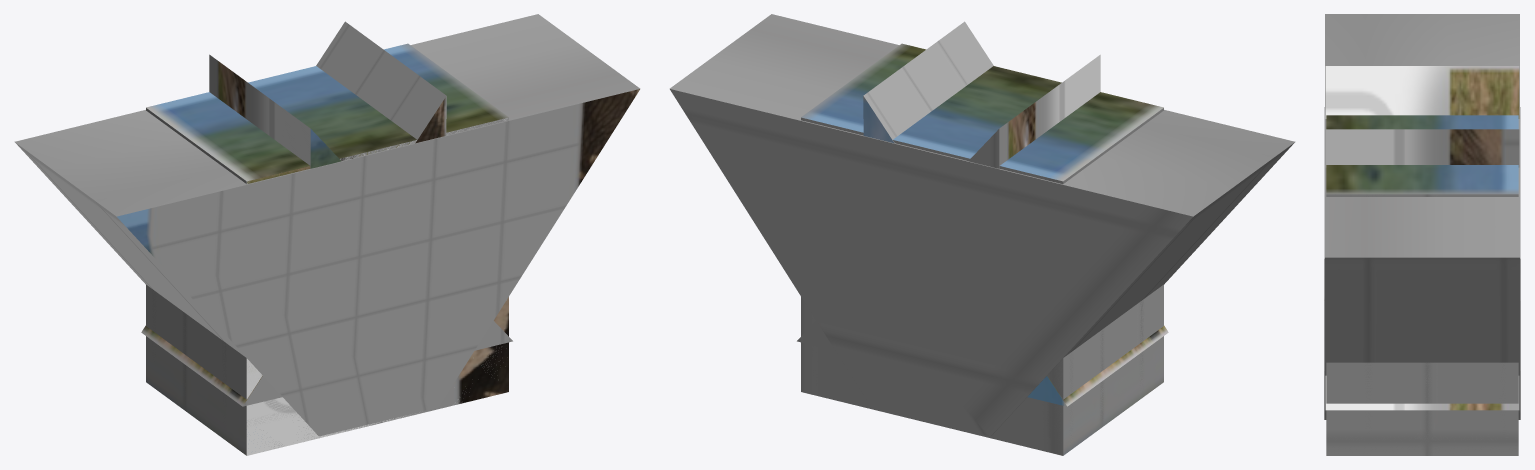
The model's file is puzzle9.fbx.
The picture shows the model from 3 angles, left to right: view 1: azimuth 30°, elevation 25°; view 2: azimuth 150°, elevation 25°; view 3: azimuth 270°, elevation 25°; orthographic projection. The views are drawn at different scales.
Visible parts, largest first — view 1: Cube.004, Cube.006, Cube, Cube.003, Cube.002, Cube.005, Cube.001; view 2: Cube.004, Cube.006, Cube, Cube.003, Cube.001, Cube.002, Cube.005; view 3: Cube.004, Cube, Cube.002, Cube.006, Cube.003, Cube.001.
Part boxes in pixels (x1,y1,x2,y2): Cube.004: (14, 14, 640, 436); Cube.006: (146, 43, 508, 443); Cube: (146, 108, 508, 455); Cube.003: (141, 21, 446, 406); Cube.002: (209, 54, 512, 350); Cube.005: (149, 111, 508, 448); Cube.001: (146, 124, 411, 449); Cube.004: (669, 14, 1295, 436); Cube.006: (801, 43, 1163, 453); Cube: (845, 108, 1163, 455); Cube.003: (863, 21, 1168, 406); Cube.001: (846, 109, 1163, 450); Cube.002: (797, 54, 1100, 350); Cube.005: (801, 110, 1162, 444); Cube.004: (1324, 14, 1520, 419); Cube: (1326, 194, 1518, 455); Cube.002: (1325, 66, 1519, 410); Cube.006: (1326, 115, 1518, 194); Cube.003: (1325, 129, 1519, 167); Cube.001: (1326, 363, 1518, 448).
Size of the model in its own units: 599 by 341 by 204.
